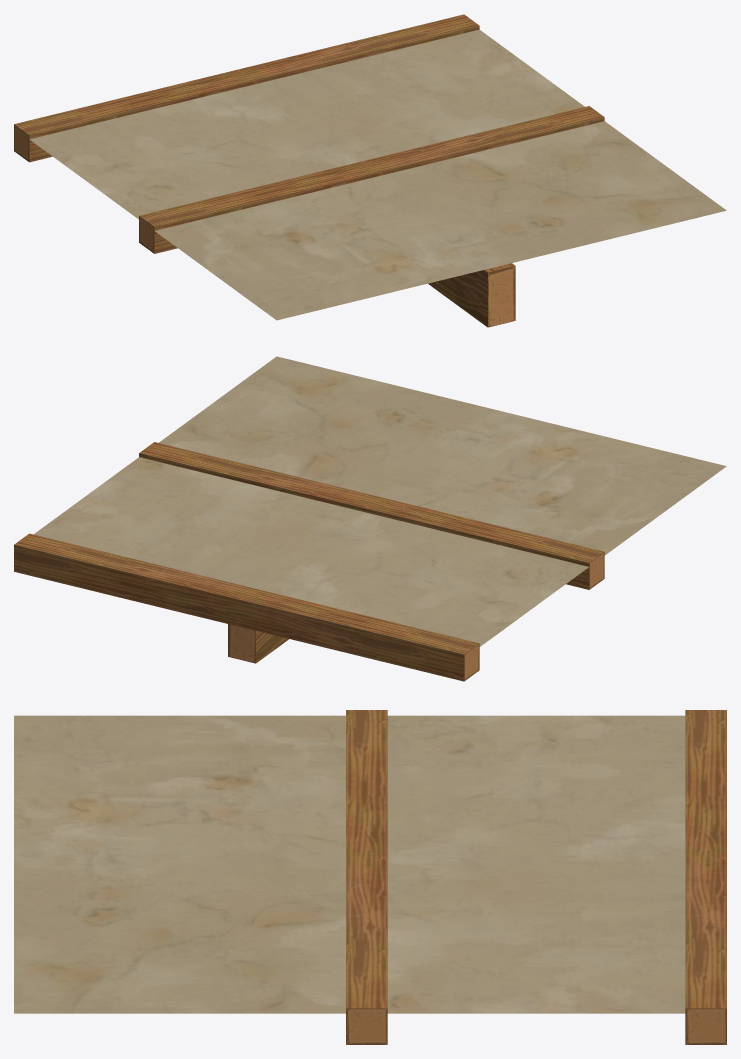
Rendered from roof-qm-overhangroofplaster.glb.
3 views of the same model, one above another, from view 1: azimuth 30°, elevation 25°; view 2: azimuth 150°, elevation 25°; view 3: azimuth 270°, elevation 25° (orthographic). The views are drawn at different scales.
Visible parts, largest first — view 1: Cube_067; view 2: Cube_067; view 3: Cube_067.
Boxes of the visible parts, box(x1,y1,x2,y2) form: Cube_067: box(14, 14, 726, 327); Cube_067: box(14, 356, 726, 681); Cube_067: box(14, 710, 726, 1044).
Bounding box in the file's own units: 2 × 0.2659 × 2.02.
Materials: 2 (2 with a texture image).
